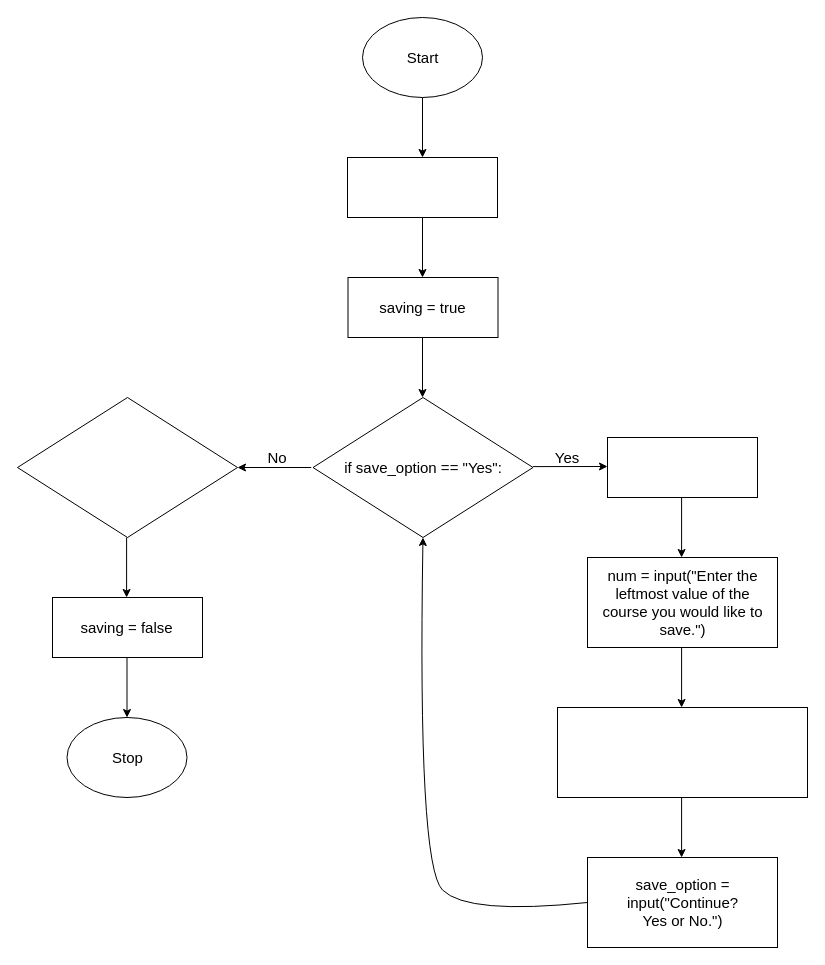
Some shapes in this 825 by 965 pixel diagram are drawn without their labels. The centre of each missing label's shape, as x and y in pixels:
if save_option == "No":: (127,467)
saved_courses = [ ]: (422,187)
saved_courses.append(int(num)): (682,752)
while saving == true:: (682,467)
